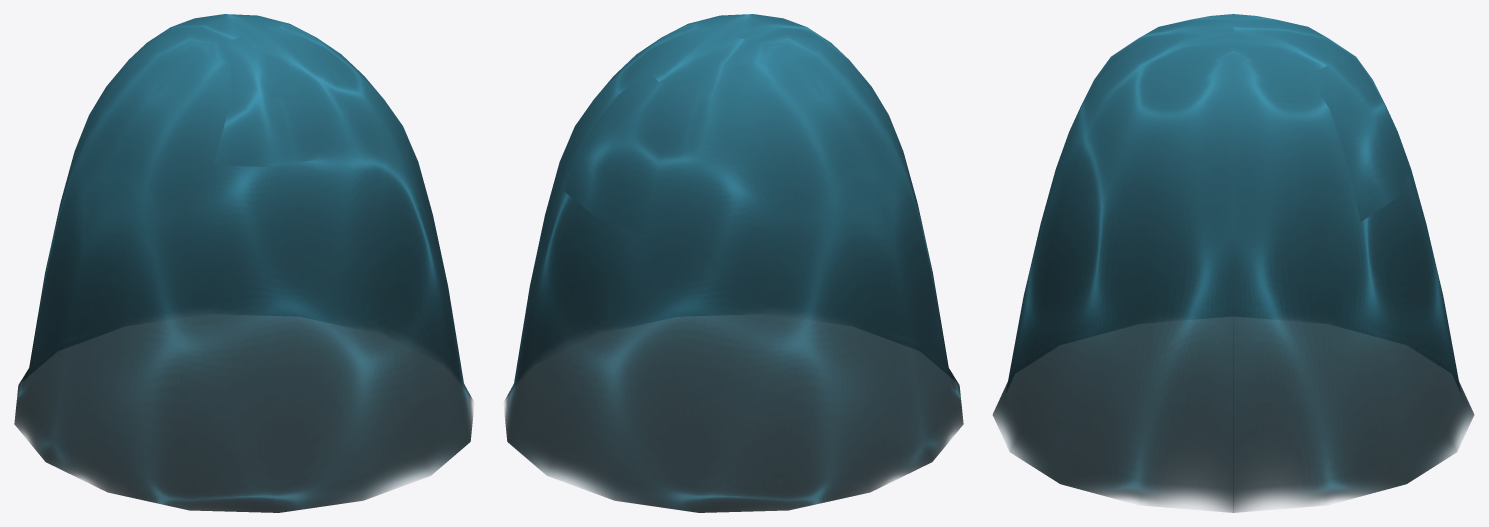
Rendered from EnergyBarrier_VFX.gltf.
The picture shows the model from 3 angles, left to right: view 1: azimuth 30°, elevation 25°; view 2: azimuth 150°, elevation 25°; view 3: azimuth 270°, elevation 25°; orthographic projection.
Visible parts, largest first — view 1: Sphere.002; view 2: Sphere.002; view 3: Sphere.002.
Boxes of the visible parts, bbox=[...] form: Sphere.002: bbox=[14, 14, 473, 512]; Sphere.002: bbox=[504, 14, 963, 512]; Sphere.002: bbox=[992, 14, 1474, 512].
Bounding box in the file's own units: 2.68 × 2.43 × 2.78.
1 material, 1 textured.
